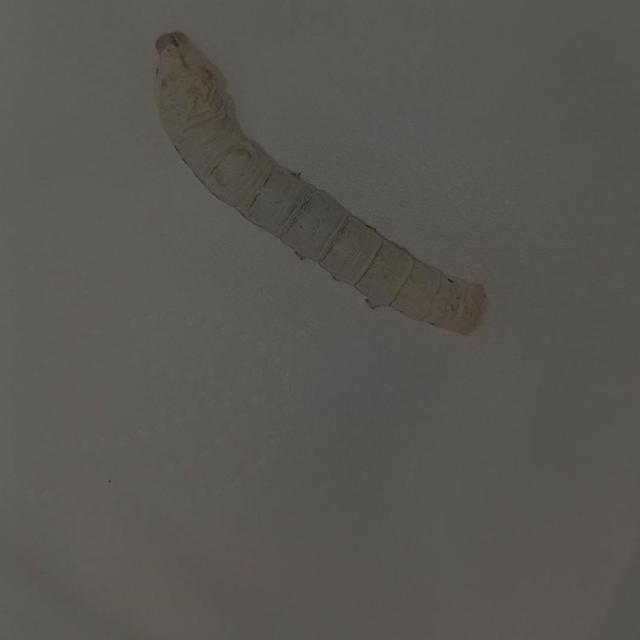Healthy: (124, 12, 514, 352)
